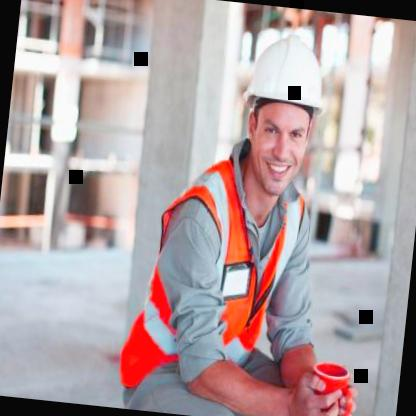helmet: (230, 26, 336, 197)
